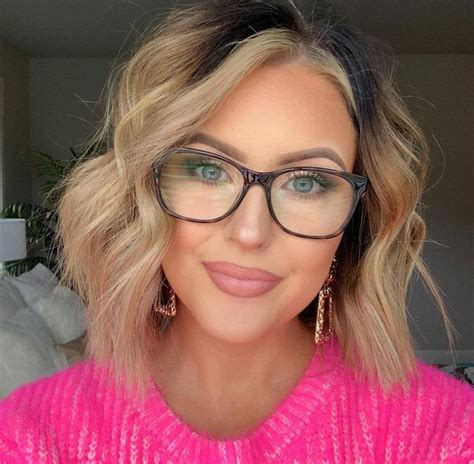sem_capacete: (88, 4, 407, 349)
